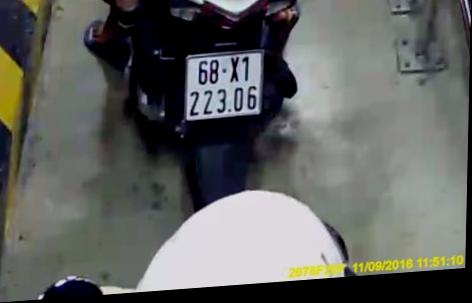License_Plate: (174, 44, 271, 130)
